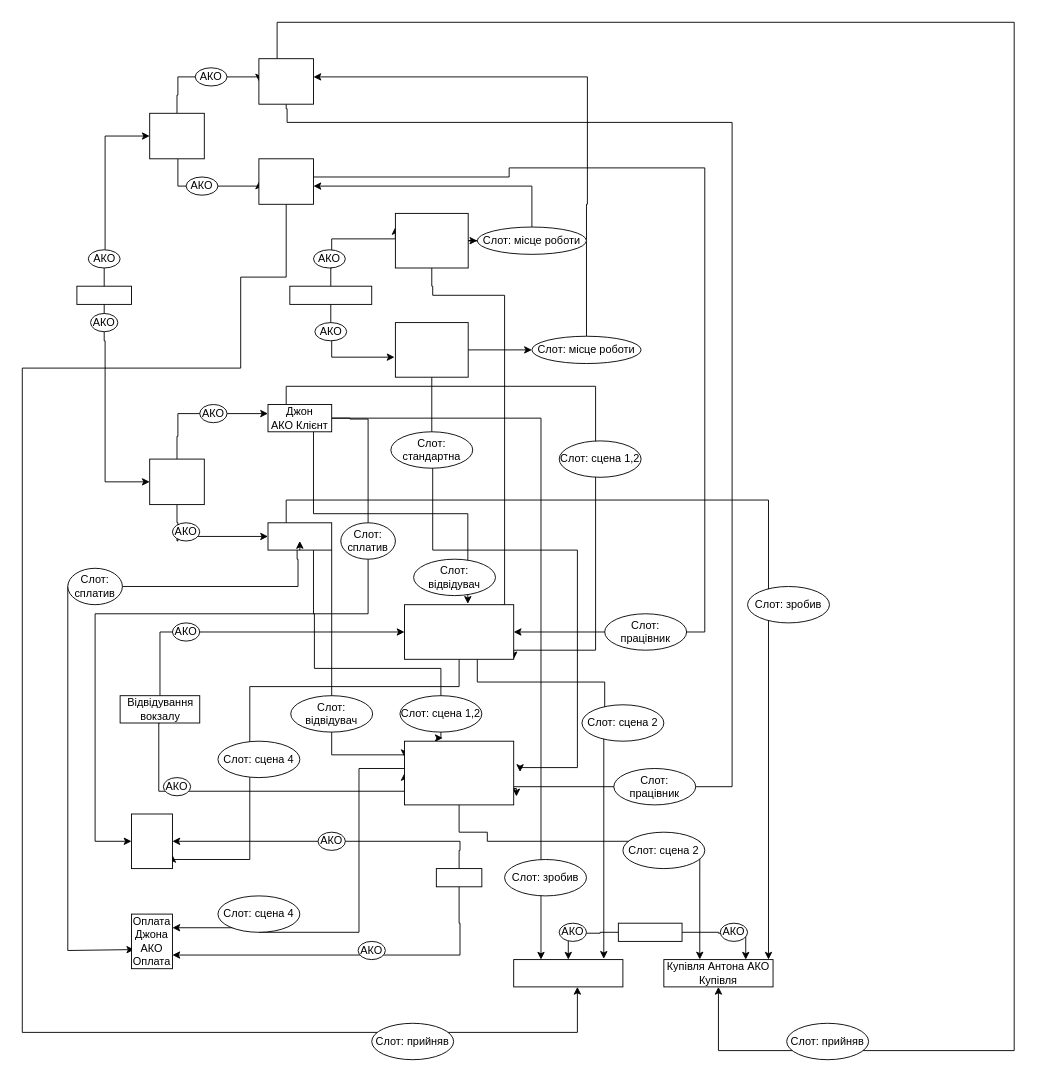
Image size: 1037x1076. Some labels were removed from this diagram. The shapes that lost their labels are listed below. From the top down, each one's centre as x and y in pixels, then its label:
At (285,81): "Сеніор АКО Працівник".
At (176,135): "Працівник АКО Людина".
At (285,181): "Джун АКО Працівник".
At (431,240): "Вокзал Західний АКО Вокзал".
At (103,294): "Людина".
At (330,294): "Вокзал".
At (431,349): "Вокзал Центральний АКО Вокзал".
At (176,481): "Клієнт Ако Людина".
At (299,536): "Антон АКО Клієнт".
At (459,631): "Відвідування Західного вокзалу АКО Відвідування вокзалу".
At (459,772): "Відвідування Центрального вокзалу АКО Відвідування вокзалу".
At (151,841): "Оплата Антона АКО Оплата".
At (458,877): "Оплата".
At (649,931): "Купівля".
At (568,973): "Купівля Джона АКО Купівля".
